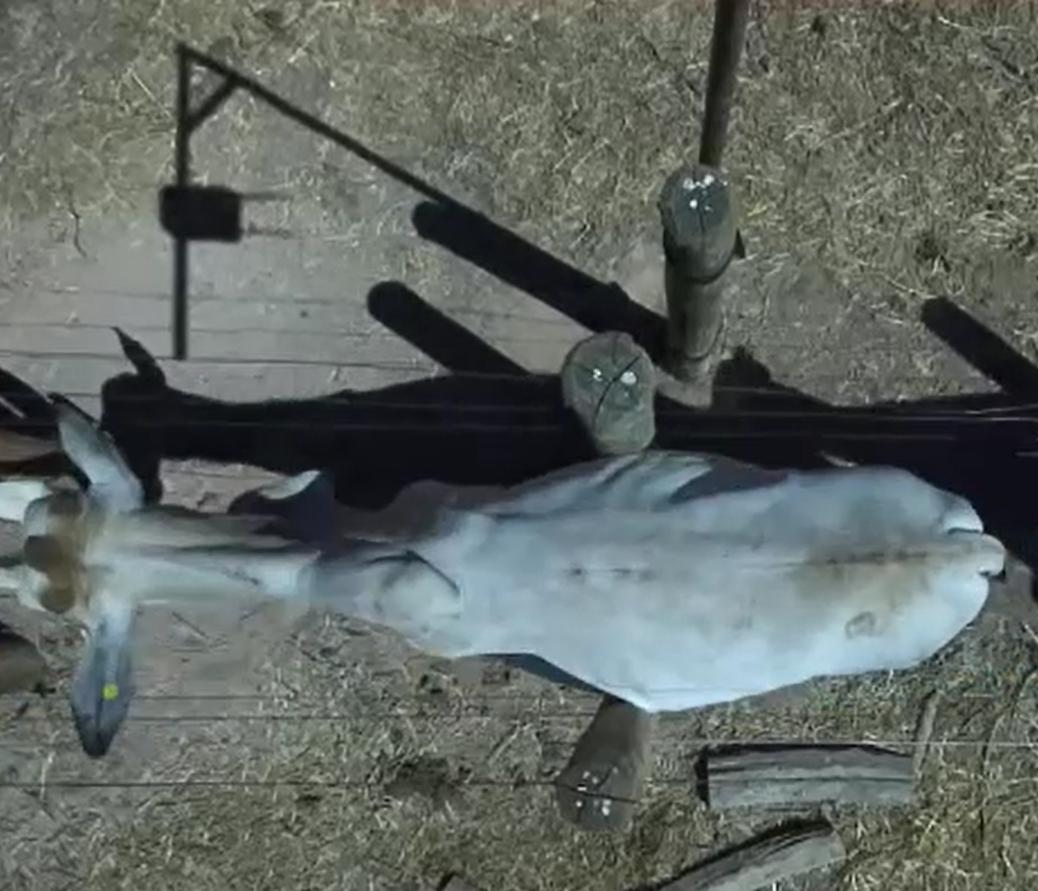cattle: (12, 380, 1020, 764)
